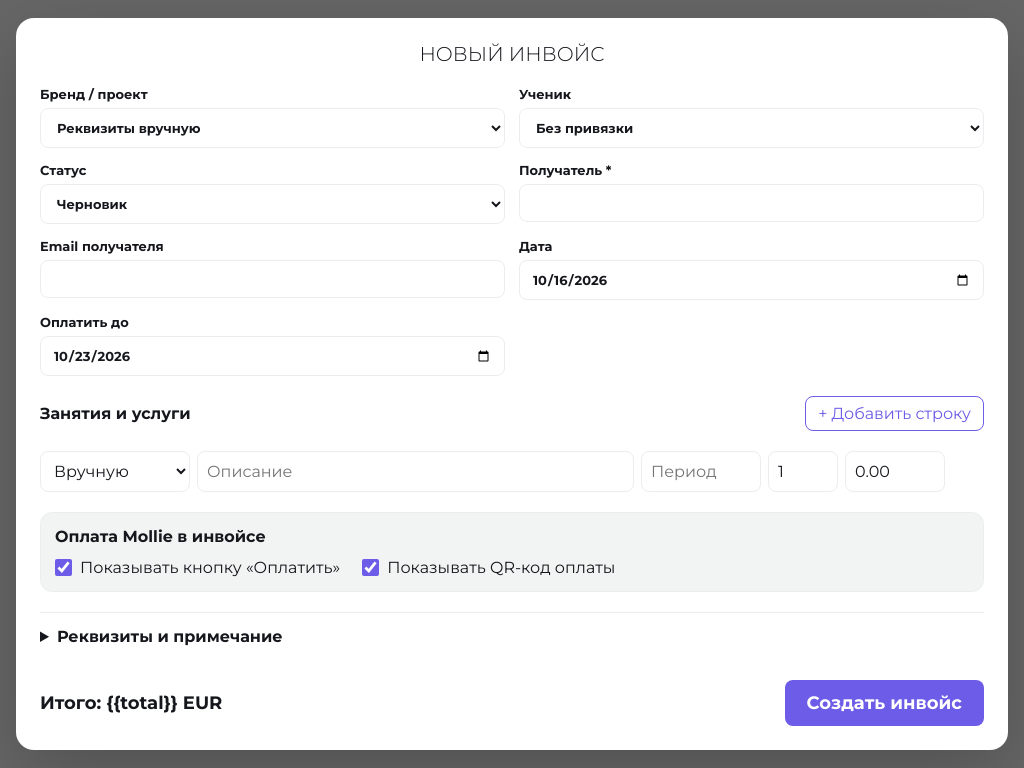
Scenario: CreateInvoiceModal › selecting a group fills description and price for that item
The width and height of the screenshot is (1024, 768).
Step 1. Select "Ballet" in the dropdown "Вручную" → x=115, y=472, box [40,451,190,492]
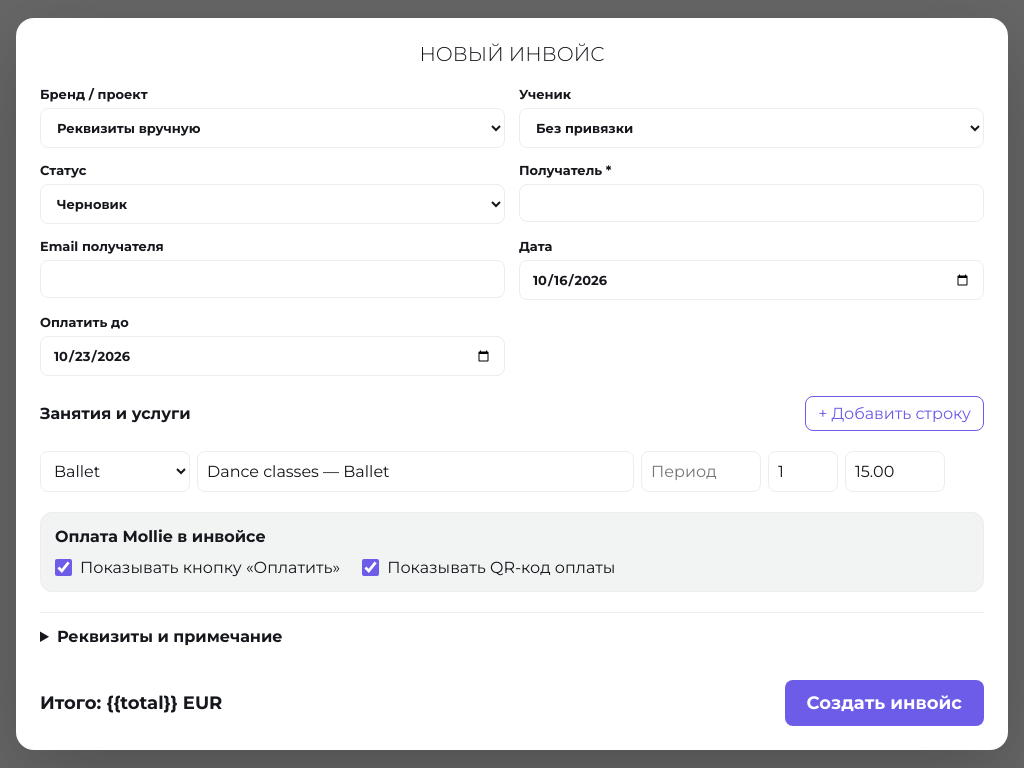
Check: the field showing "Dance classes — Ballet" is shown, box [197,451,634,492]
Check: the 2nd number field showing "15.00" is shown, box [845,451,945,492]
